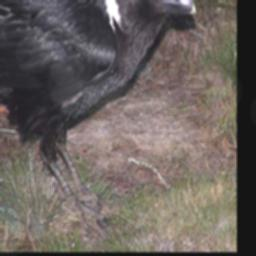Crow: (0, 0, 197, 242)
